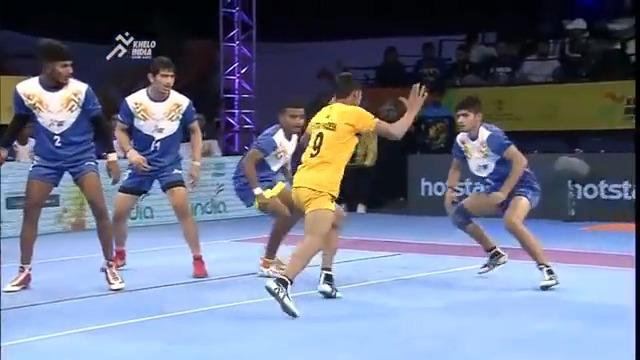Player: (0, 38, 126, 293), (442, 95, 559, 290), (109, 55, 208, 280), (231, 99, 309, 279)
Raider: (263, 71, 428, 318)
